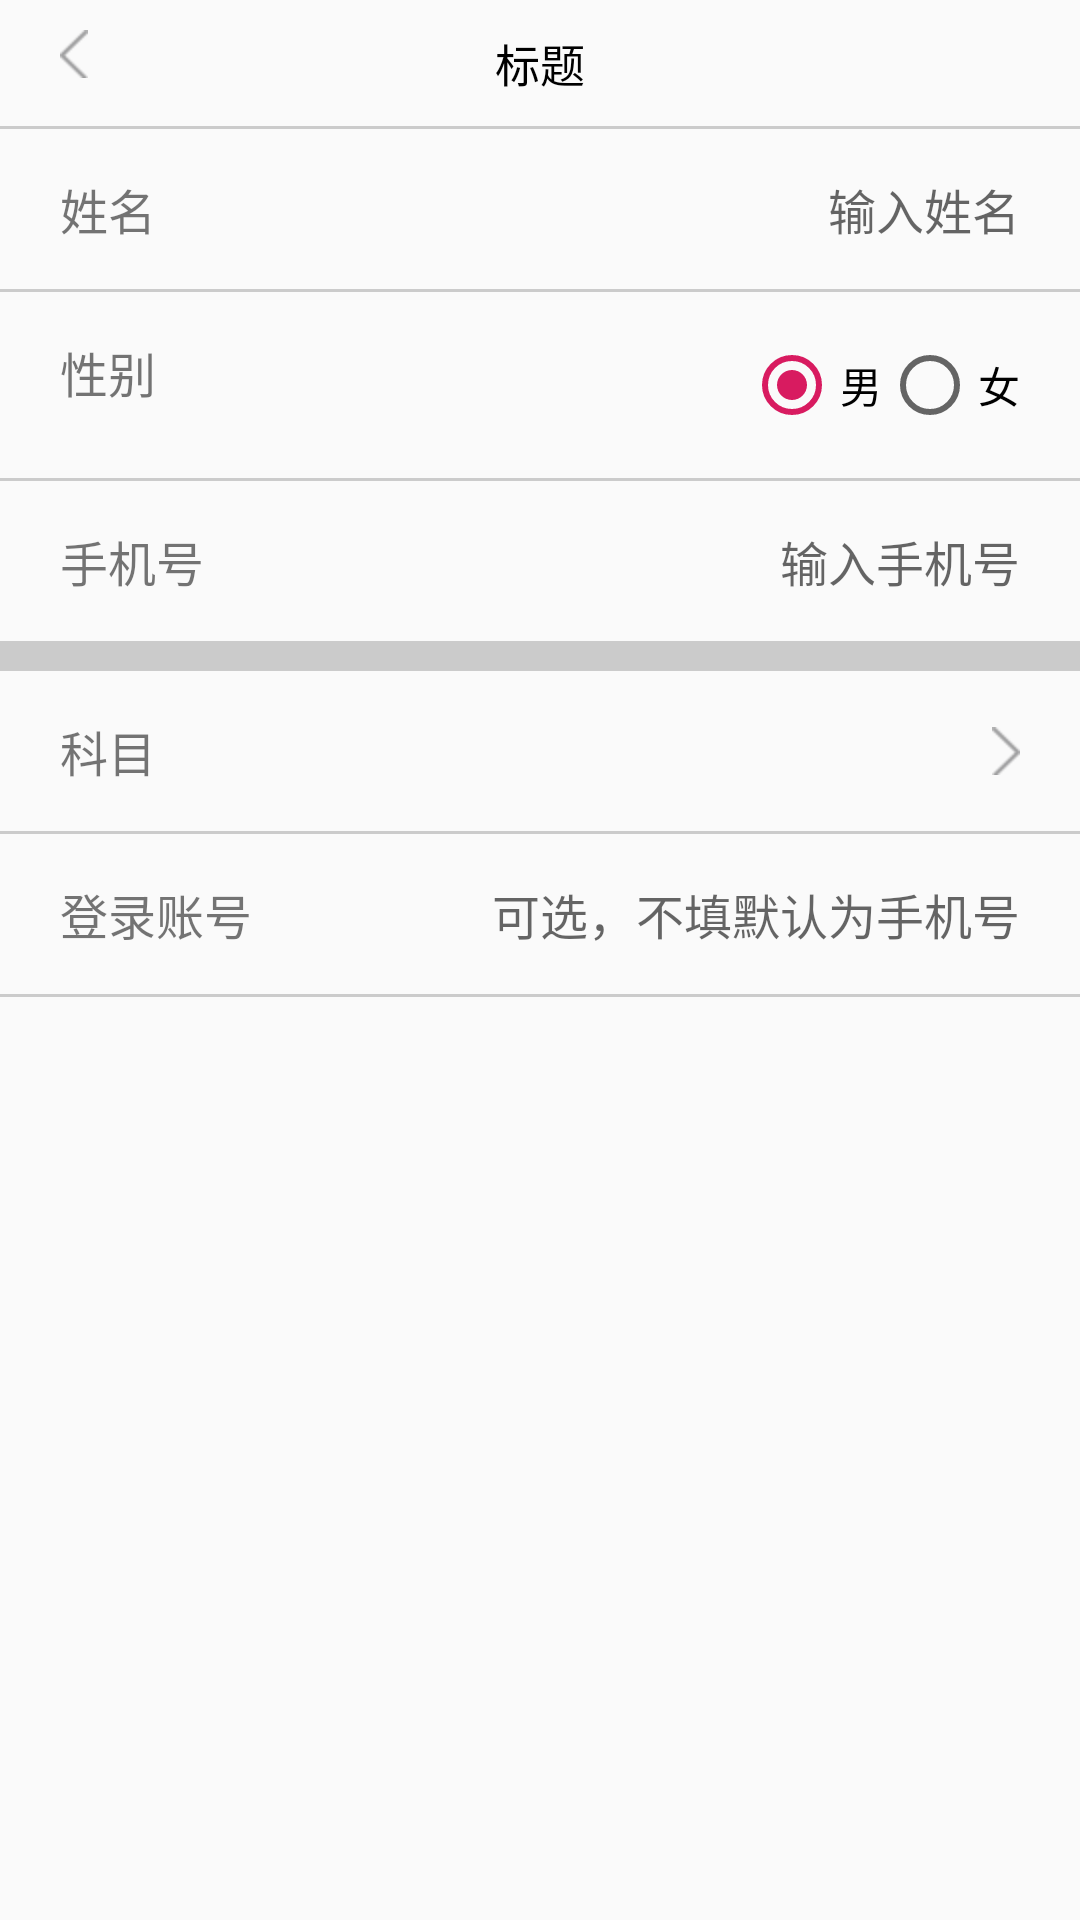

Icons on this 1080px x 1920px Android screen, each with the point to tap as (x=x, y=y):
back: (x=74, y=54)
next: (x=1006, y=751)
